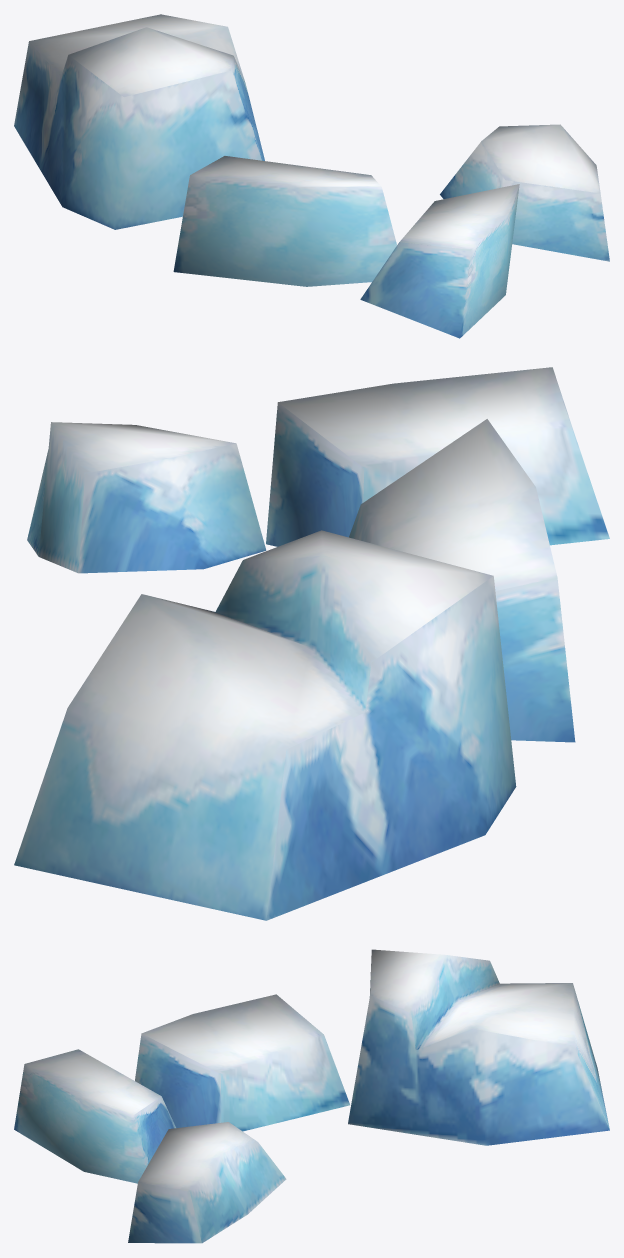
File: SM_stoneC_07.fbx
The picture shows the model from 3 angles, top to bottom: view 1: azimuth 30°, elevation 25°; view 2: azimuth 150°, elevation 25°; view 3: azimuth 270°, elevation 25°; orthographic projection. The views are drawn at different scales.
Parts seen in each view (by area): view 1: SM_stoneC_07; view 2: SM_stoneC_07; view 3: SM_stoneC_07.
Boxes of the visible parts, x1,y1,x2,y2 form: SM_stoneC_07: (14,14,609,338); SM_stoneC_07: (14,367,609,920); SM_stoneC_07: (14,949,609,1243).
Size of the model in its own units: 2.19 by 0.9099 by 3.06.
